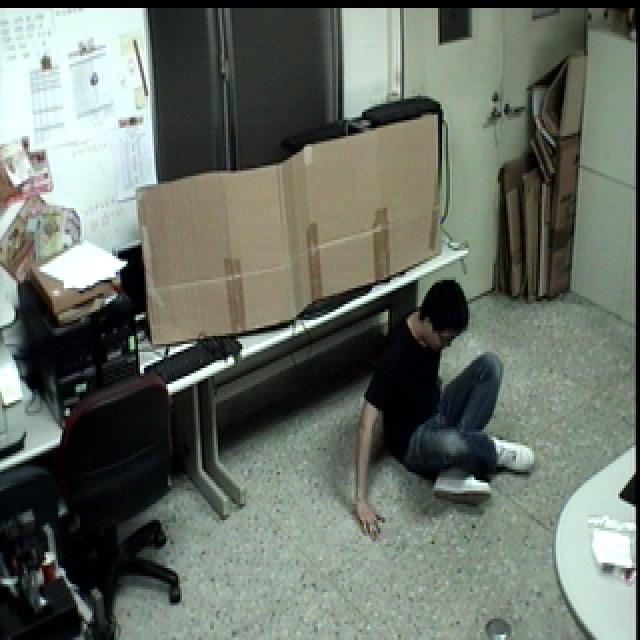sit: (349, 279, 544, 542)
